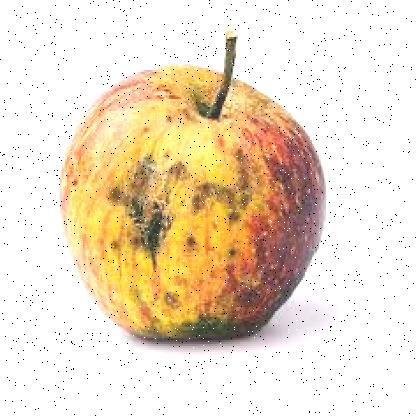damaged_apple: (60, 64, 332, 340)
